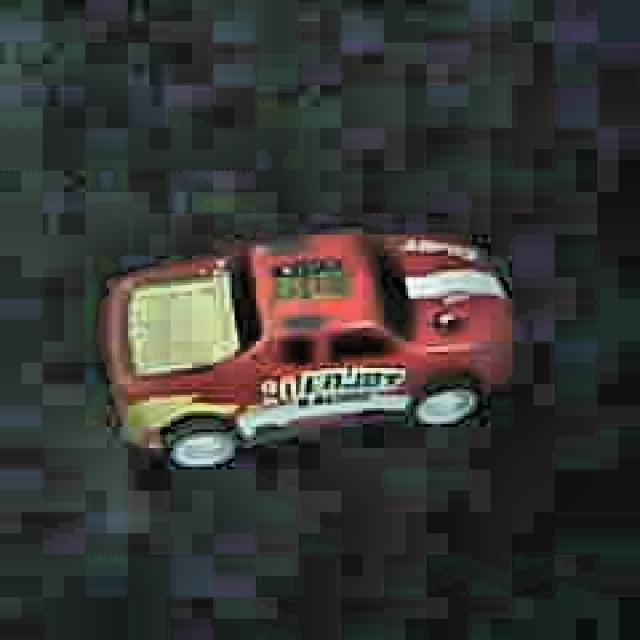car: (98, 225, 522, 482)
